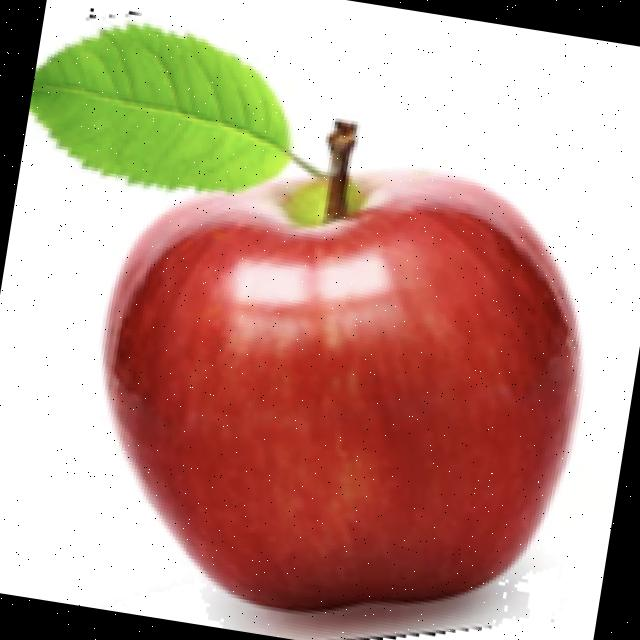apple: (28, 5, 586, 640)
